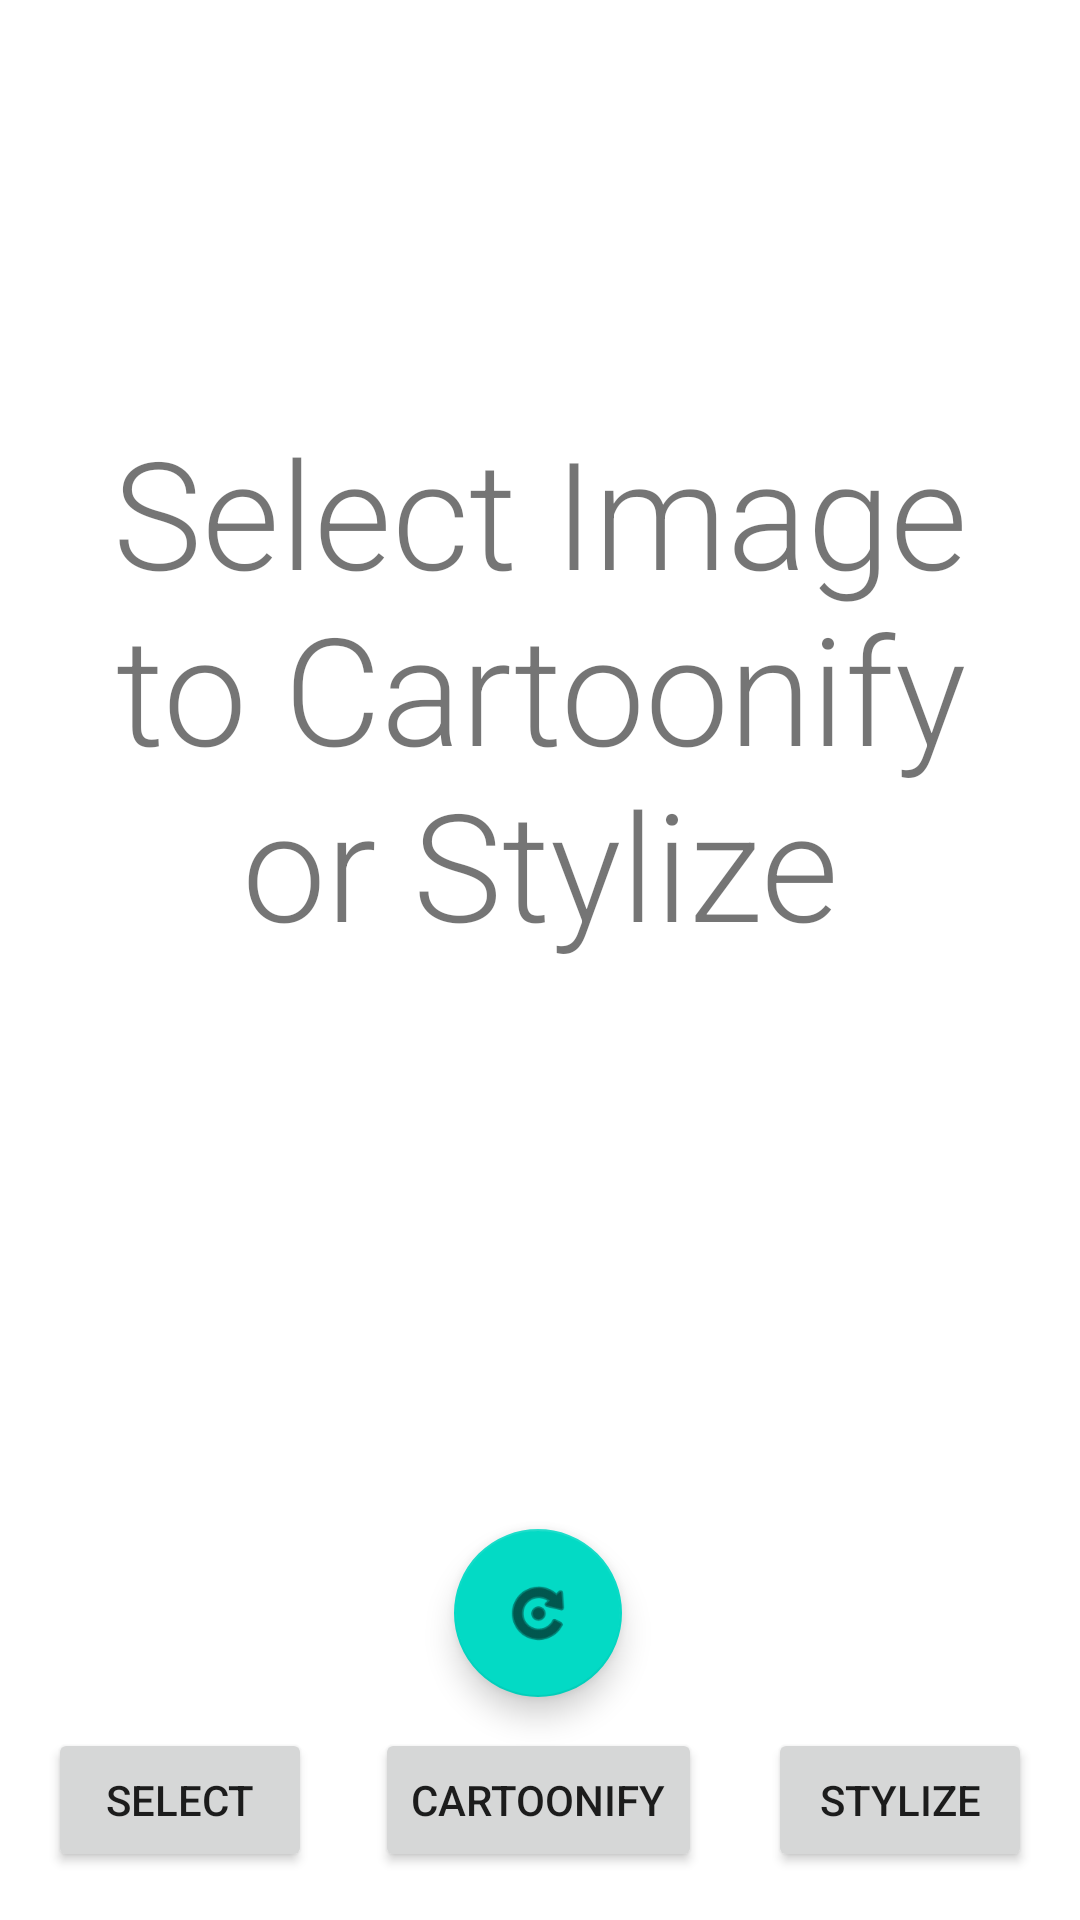

Screen size 1080*1920. Icon name, then its box in pixels as Rect(x1, y1, x2, y2):
rotate: Rect(454, 1529, 622, 1697)
